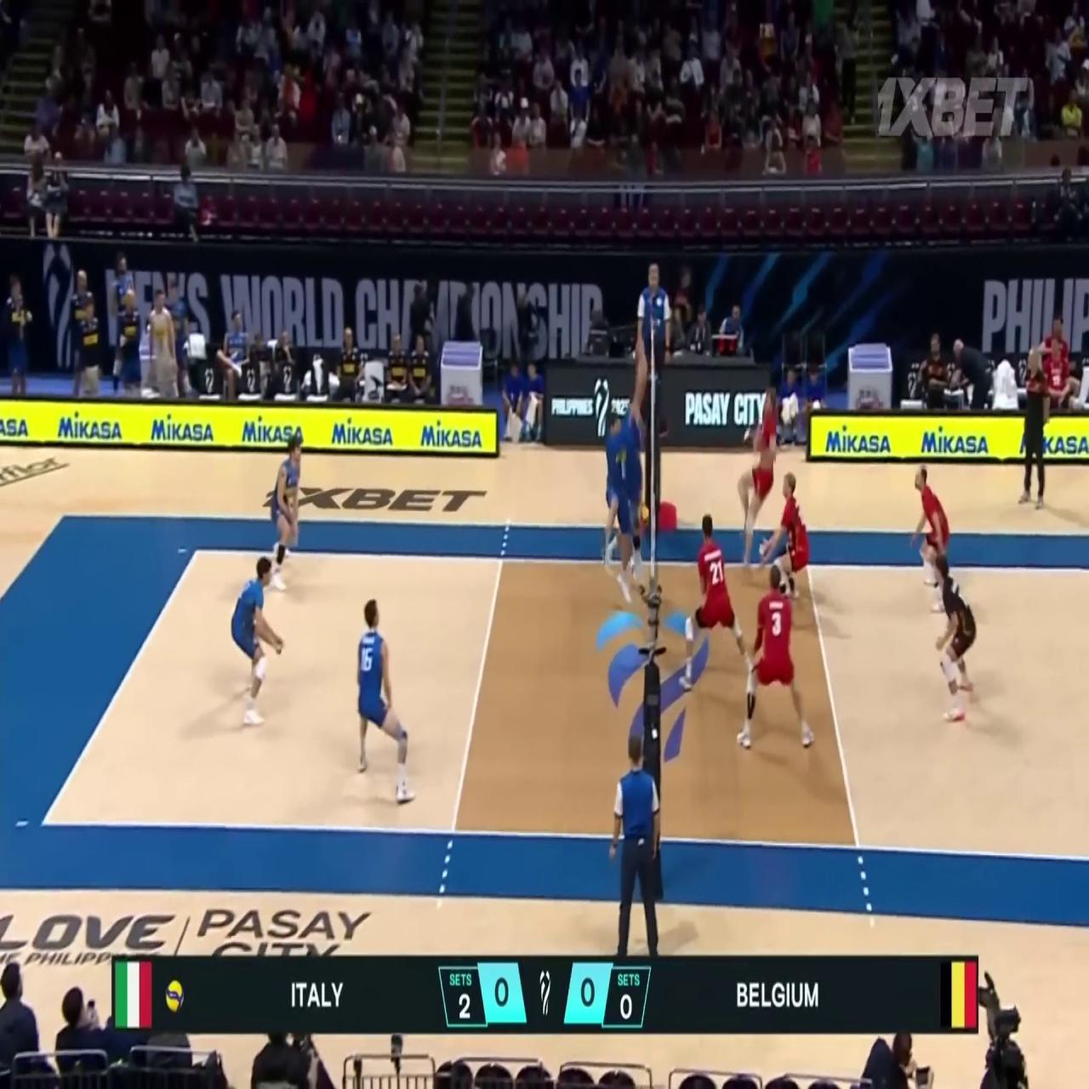ball: (637, 504, 650, 525)
